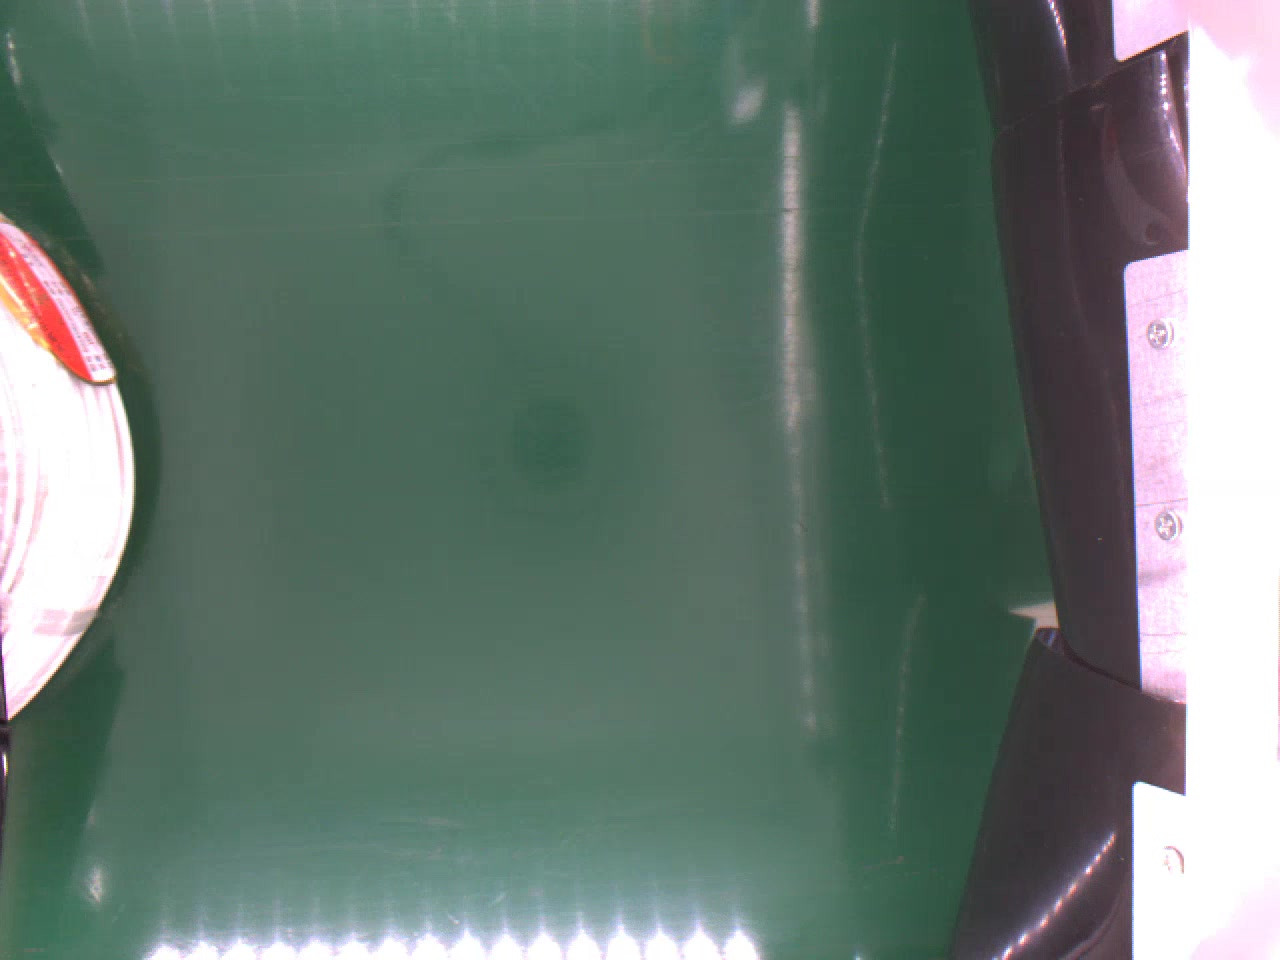white: (0, 214, 144, 720)
